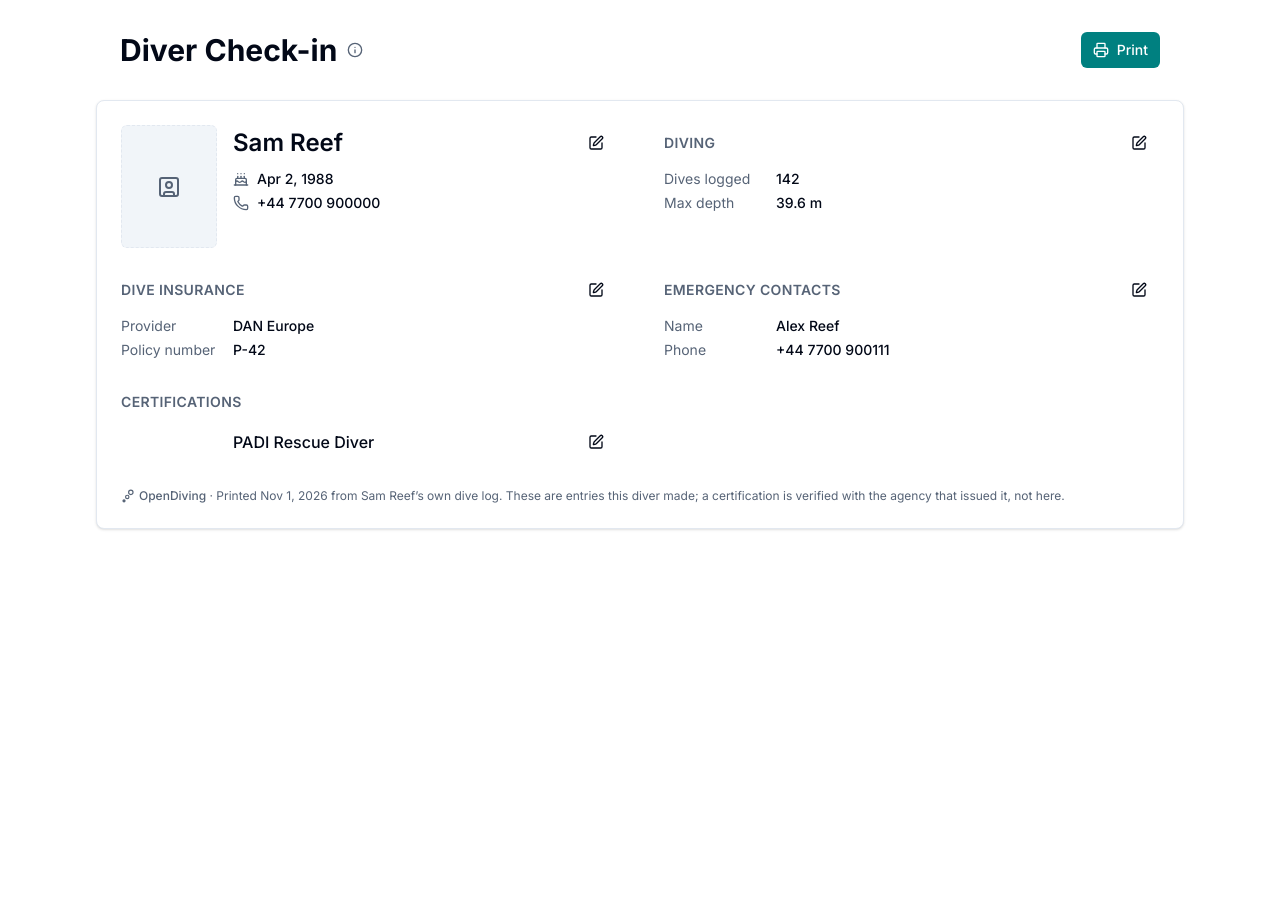
Test: the picture at the top › opens About You, portrait and all, from the empty frame
Click the button named "Add a portrait" at [169, 187], box x1=122 y1=126 x2=216 y2=247
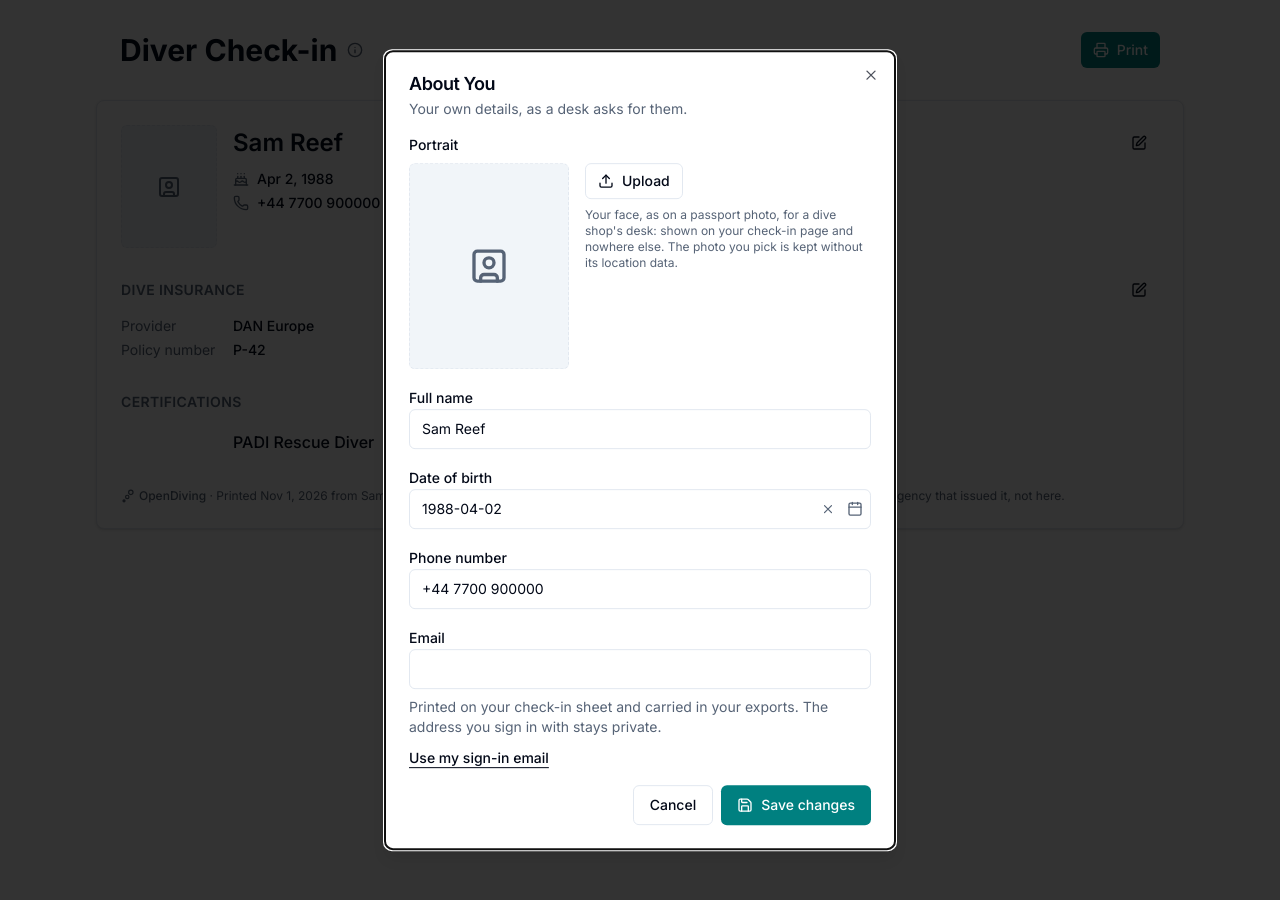
Check: the element named "Choose a portrait" is shown, box x1=409 y1=135 x2=871 y2=369
Check: the field labelled "Phone number" is shown, box x1=409 y1=569 x2=871 y2=609
